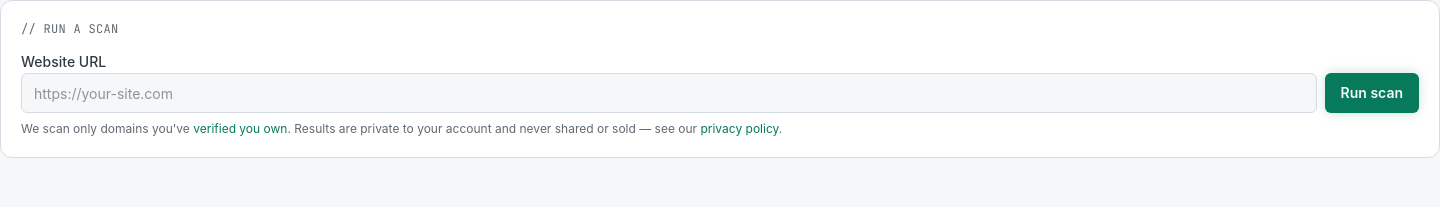
Test: RunScanForm › reports the score, clears the field and refreshes the caller on completion
Type "https://example.com" into the field labelled "Website URL" at (669, 93), box [21,73,1317,113]
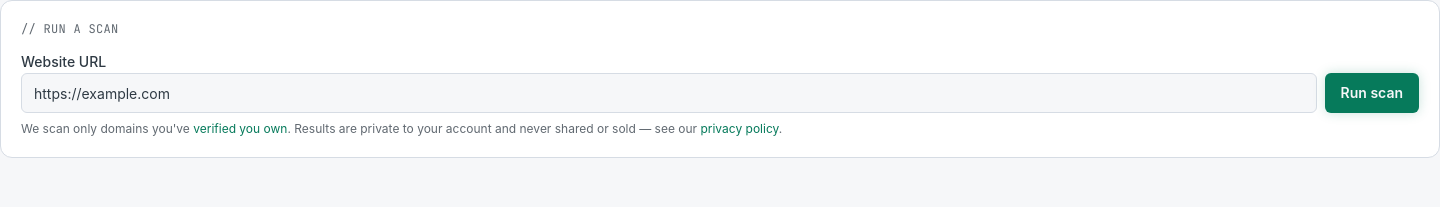
Click the button "Run scan" at (1372, 93), box [1325,73,1419,113]
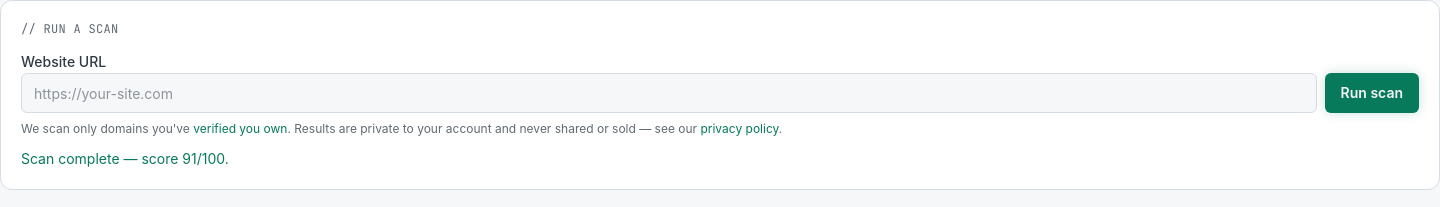
Check: the text "Scan complete — score 91/100." is shown, box [21,150,229,167]
Check: the field labelled "Website URL" is empty, box [21,73,1317,113]
